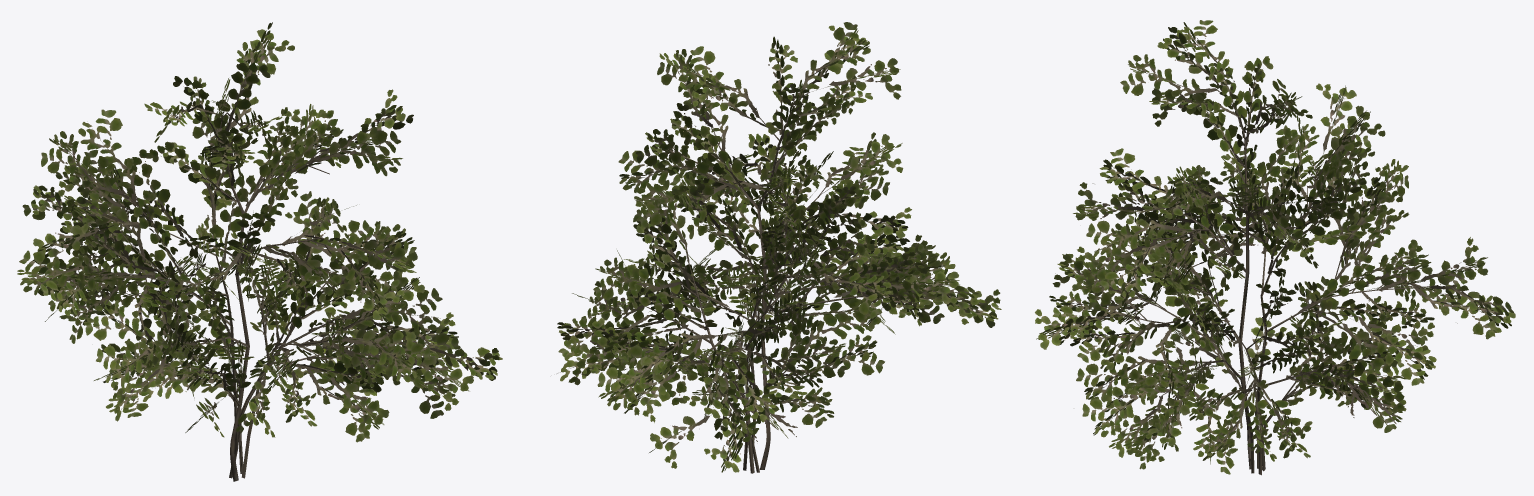
Rendered from SM_BlackAlder_Sapling_06_PP_LOD3.gltf.
3 views of the same model, side by side, from view 1: azimuth 30°, elevation 25°; view 2: azimuth 150°, elevation 25°; view 3: azimuth 270°, elevation 25° (orthographic). The views are drawn at different scales.
Parts seen in each view (by area): view 1: SM_BlackAlder_Sapling_06_PP; view 2: SM_BlackAlder_Sapling_06_PP; view 3: SM_BlackAlder_Sapling_06_PP.
Part boxes in pixels (x1,y1,x2,y2): SM_BlackAlder_Sapling_06_PP: (17,22,502,481); SM_BlackAlder_Sapling_06_PP: (557,22,1001,473); SM_BlackAlder_Sapling_06_PP: (1035,20,1515,475).
Size of the model in its own units: 3.63 by 3.76 by 3.88.
1 material, 1 textured.
